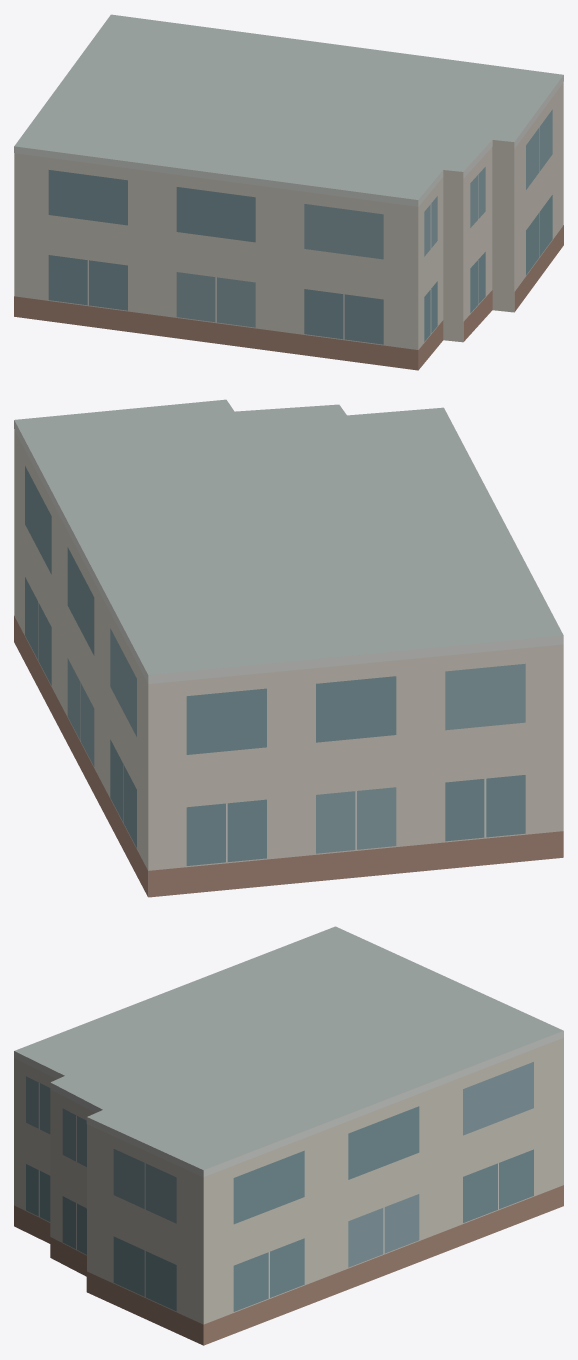
Rendered from survey-upis-32638912.glb.
3 renders of one model, top to bottom at view 1: azimuth 30°, elevation 25°; view 2: azimuth 150°, elevation 25°; view 3: azimuth 270°, elevation 25°, orthographic. The views are drawn at different scales.
Parts seen in each view (by area): view 1: survey-upis-32638912.tmp; view 2: survey-upis-32638912.tmp; view 3: survey-upis-32638912.tmp.
Boxes of the visible parts, x1=… form: survey-upis-32638912.tmp: x1=14, y1=14, x2=563, y2=370; survey-upis-32638912.tmp: x1=14, y1=399, x2=563, y2=897; survey-upis-32638912.tmp: x1=14, y1=926, x2=563, y2=1345.
Size of the model in its own units: 18.2 by 6.1 by 17.34.
